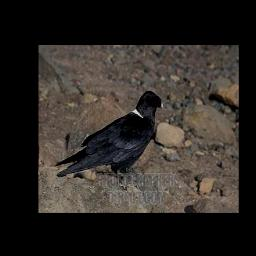Crow: (52, 90, 165, 194)
